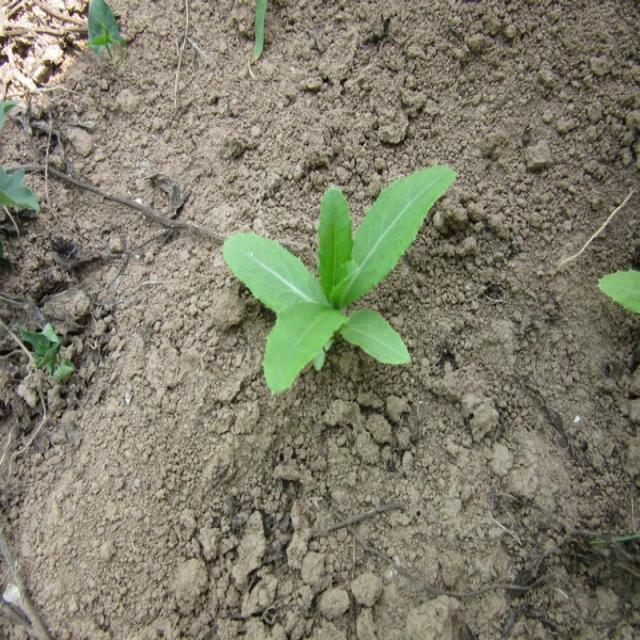cs: (222, 159, 460, 398)
